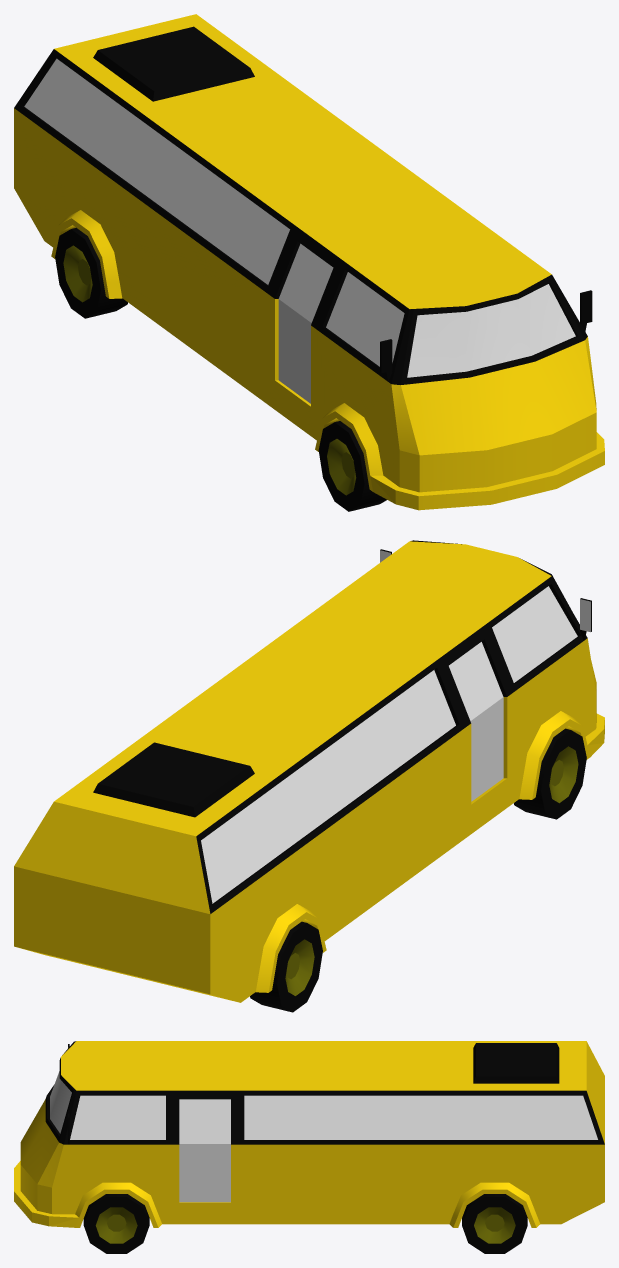
The model's file is yellow bus.fbx.
The picture shows the model from 3 angles, top to bottom: view 1: azimuth 30°, elevation 25°; view 2: azimuth 150°, elevation 25°; view 3: azimuth 270°, elevation 25°; orthographic projection. The views are drawn at different scales.
Visible parts, largest first — view 1: Object018, Object021, Object022; view 2: Object018, Object022, Object021; view 3: Object018, Object020, Object019.
Part boxes in pixels (bbox=[...]): Object018: bbox=[14, 14, 604, 510]; Object021: bbox=[55, 227, 127, 318]; Object022: bbox=[318, 421, 386, 511]; Object018: bbox=[14, 540, 604, 1002]; Object022: bbox=[514, 728, 586, 819]; Object021: bbox=[250, 921, 322, 1012]; Object018: bbox=[14, 1041, 604, 1227]; Object020: bbox=[83, 1194, 149, 1253]; Object019: bbox=[462, 1194, 527, 1253].
Bounding box in the file's own units: 124 × 115 × 398.
